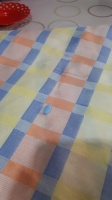Majezik: (43, 104, 51, 115)
